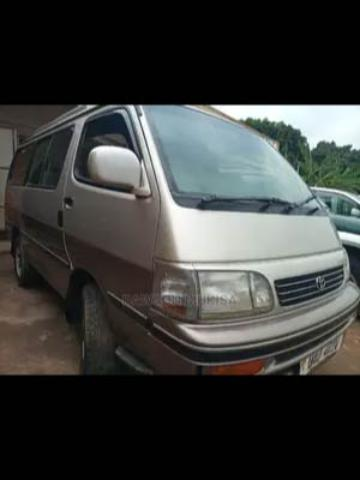van: (4, 103, 359, 369)
